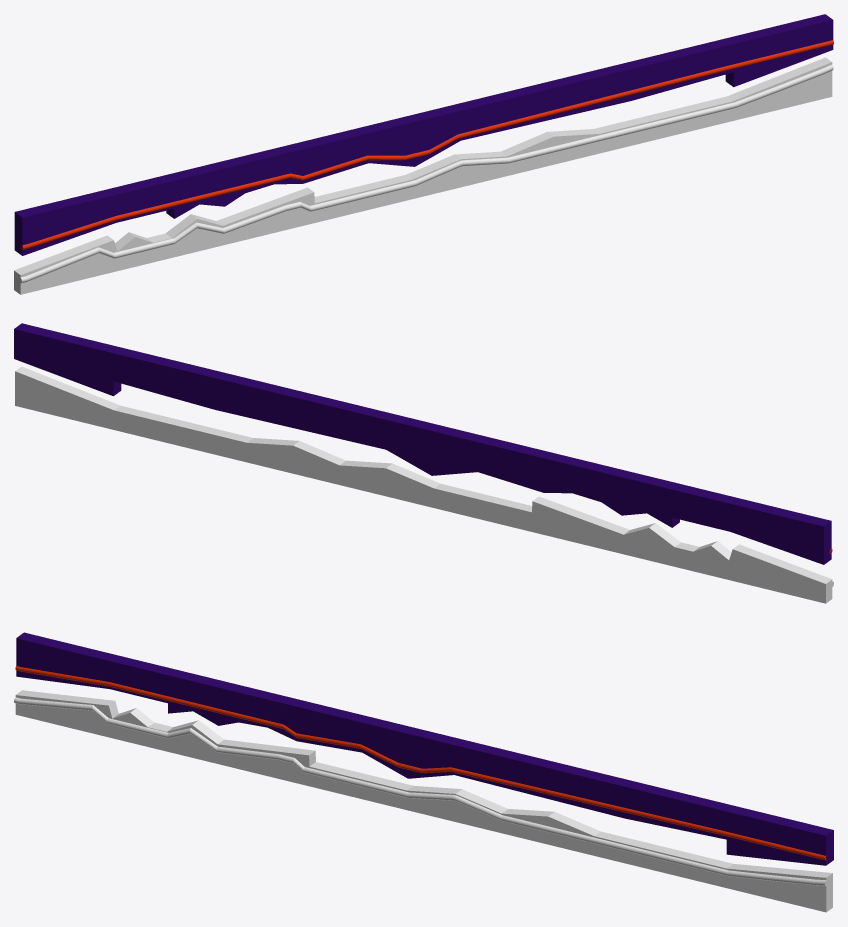
Rendered from walls2.glb.
The picture shows the model from 3 angles, top to bottom: view 1: azimuth 30°, elevation 25°; view 2: azimuth 150°, elevation 25°; view 3: azimuth 330°, elevation 25°; orthographic projection.
Parts seen in each view (by area): view 1: teto2, chao2; view 2: teto2, chao2; view 3: teto2, chao2.
Part boxes in pixels (left/top/right/bottom): teto2: left=14, top=14, right=833, bottom=255; chao2: left=14, top=57, right=833, bottom=294; teto2: left=14, top=323, right=832, bottom=564; chao2: left=15, top=366, right=833, bottom=603; teto2: left=15, top=632, right=833, bottom=865; chao2: left=14, top=690, right=832, bottom=912.
Bounding box in the file's own units: 907 × 82.5 × 16.7.
